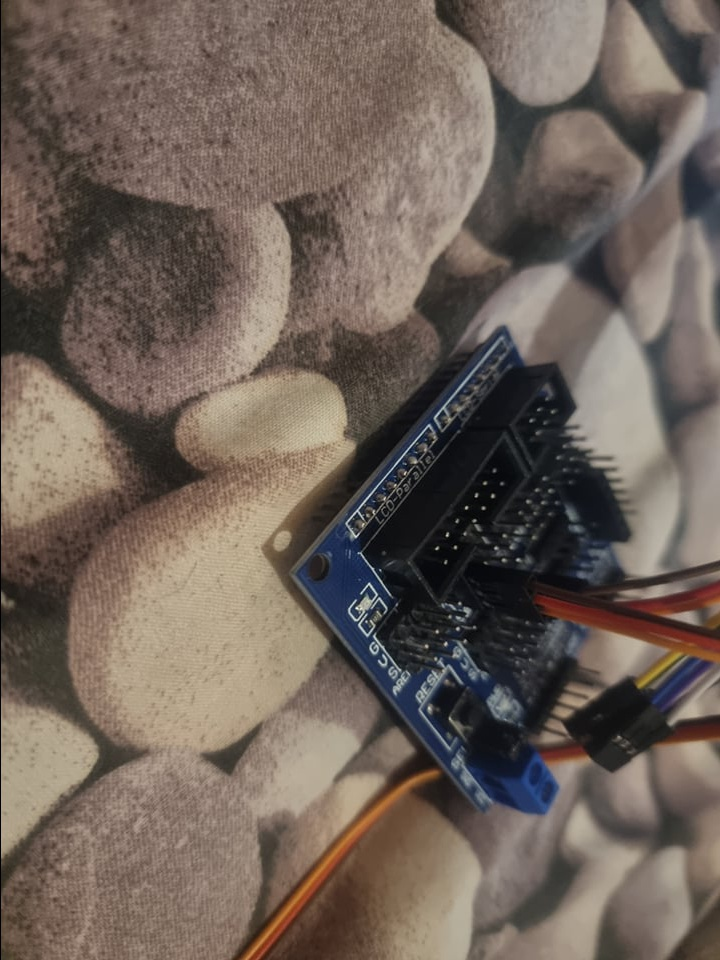5V EXPANSION: (285, 322, 646, 815)
